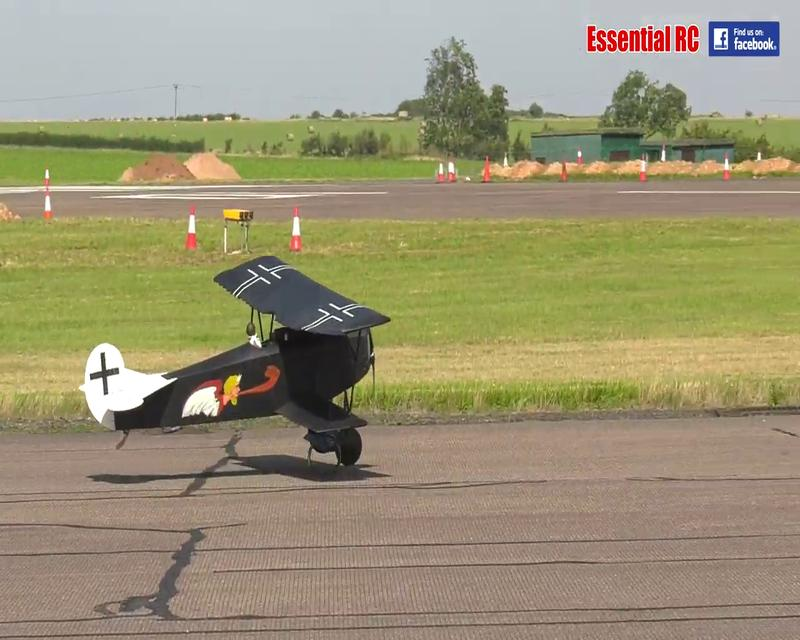UAV: (78, 257, 391, 475)
